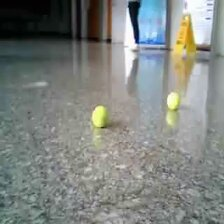tennis: (92, 105, 108, 128), (166, 92, 181, 110)
